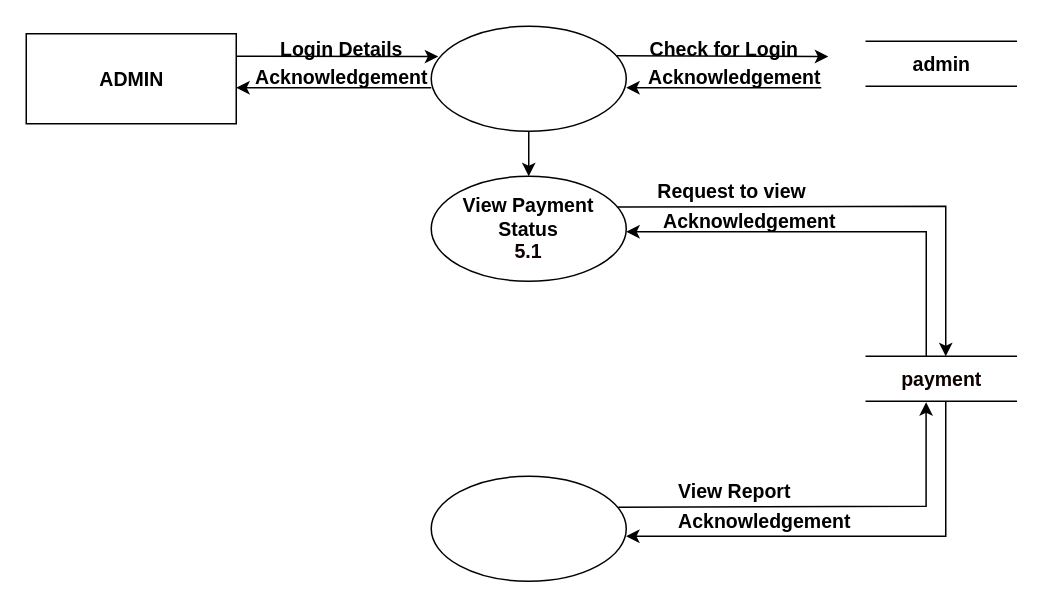
The diagram is 1043 pixels wide and 608 high, and some of its shapes have lost their labels. Each missing label, with the box of its shape:
Generate Report 5.2: (430, 475, 626, 581)
Login 5.0: (430, 25, 626, 131)
